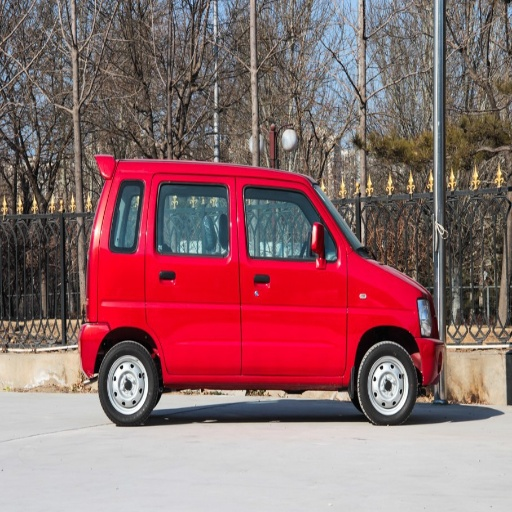back_right_door: (147, 176, 241, 374)
front_right_door: (237, 177, 346, 374)
